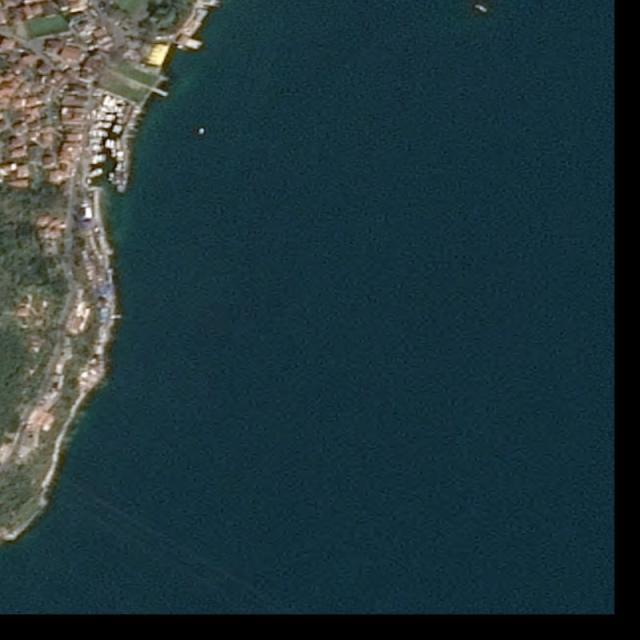ship: (86, 166, 105, 182), (473, 2, 489, 14), (90, 154, 106, 165), (102, 104, 120, 113), (90, 145, 105, 154), (89, 130, 108, 137), (94, 122, 113, 129), (97, 113, 115, 120), (110, 149, 118, 160), (116, 125, 124, 136), (90, 138, 104, 144), (111, 124, 119, 134), (116, 138, 122, 151), (105, 139, 111, 150), (111, 139, 116, 150), (199, 126, 205, 135)
